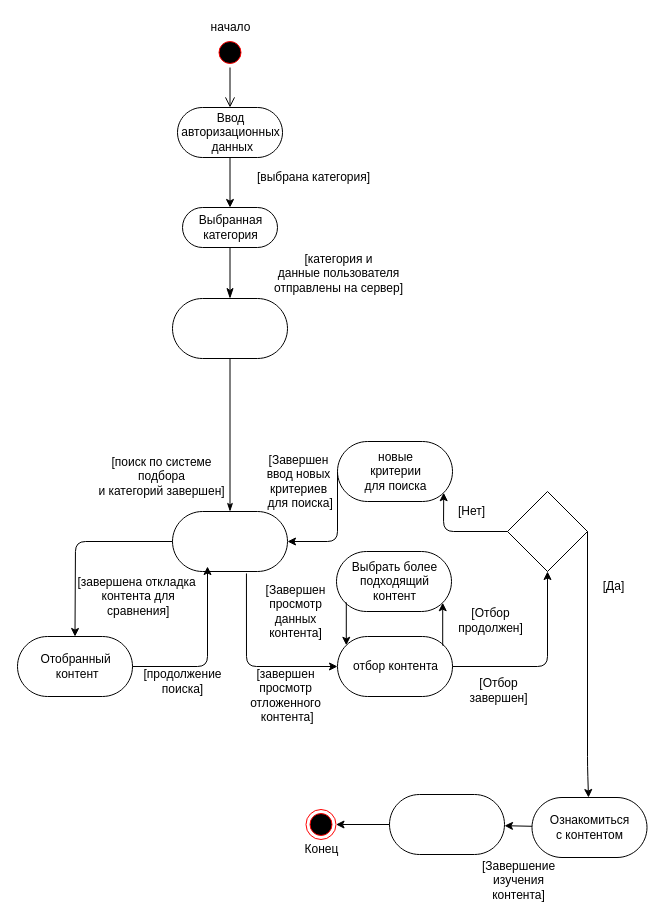
This 665x920 diagram has some shape labels left out. The shapes that lost their labels are listed below. From the top down, each one's centre as x and y in pixels, then its label:
At point 230,328: "Выбранная категория и данные пользователя".
At point 230,541: "поиск контента".
At point 547,531: "найден подходящий контент".
At point 446,824: "Контент найден".
